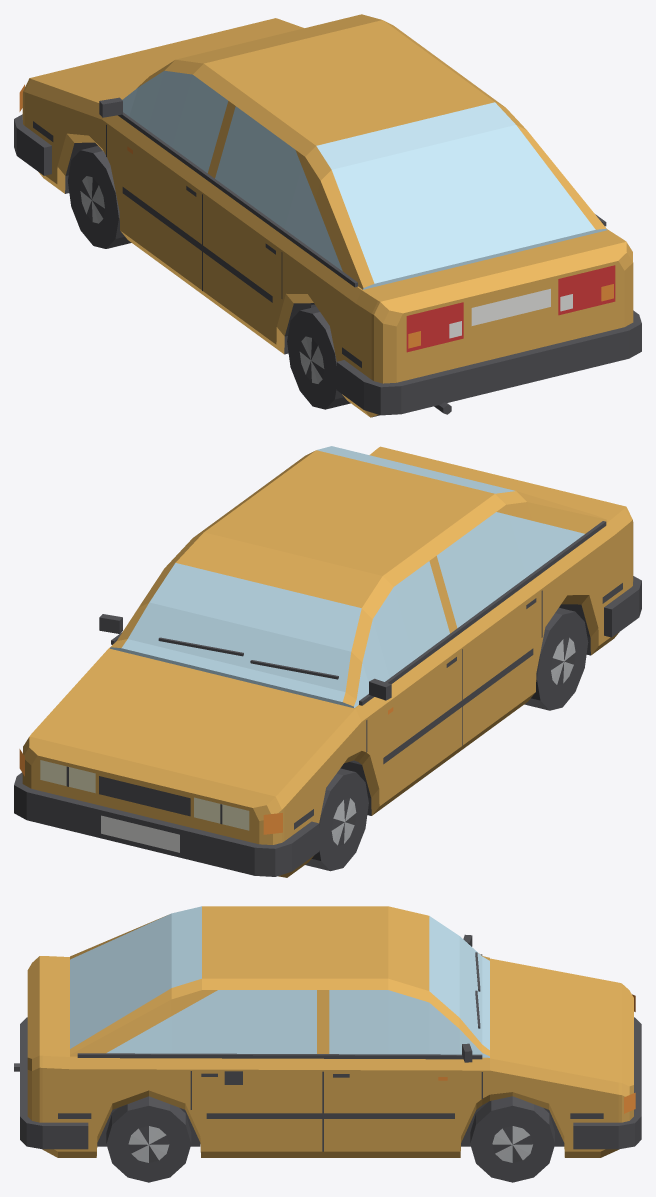
The model's file is escort.glb.
The picture shows the model from 3 angles, top to bottom: view 1: azimuth 30°, elevation 25°; view 2: azimuth 150°, elevation 25°; view 3: azimuth 270°, elevation 25°; orthographic projection. The views are drawn at different scales.
Parts seen in each view (by area): view 1: body, door_FL, wheel_FL, wheel_RL; view 2: body, door_FL, wheel_RL, wheel_FL; view 3: body, door_FR, wheel_FR, wheel_RR.
Boxes of the visible parts, x1,y1,x2,y2 form: body: (14, 14, 641, 417); door_FL: (106, 70, 231, 300); wheel_FL: (68, 146, 131, 248); wheel_RL: (287, 306, 350, 409); body: (14, 446, 641, 877); door_FL: (354, 558, 462, 815); wheel_RL: (524, 607, 588, 710); wheel_FL: (305, 768, 368, 871); body: (14, 906, 641, 1157); door_FR: (323, 990, 482, 1157); wheel_FR: (470, 1096, 554, 1182); wheel_RR: (106, 1096, 191, 1182).
Bounding box in the file's own units: 1.83 × 1.38 × 4.14.
